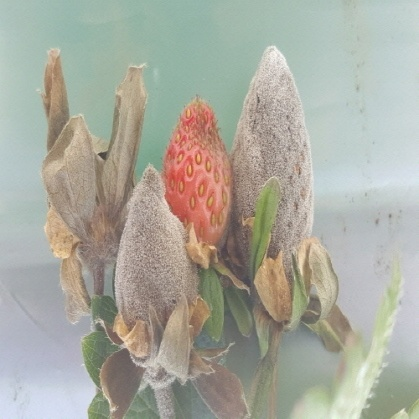Gray_Mold: (148, 30, 323, 385), (105, 98, 251, 373)
